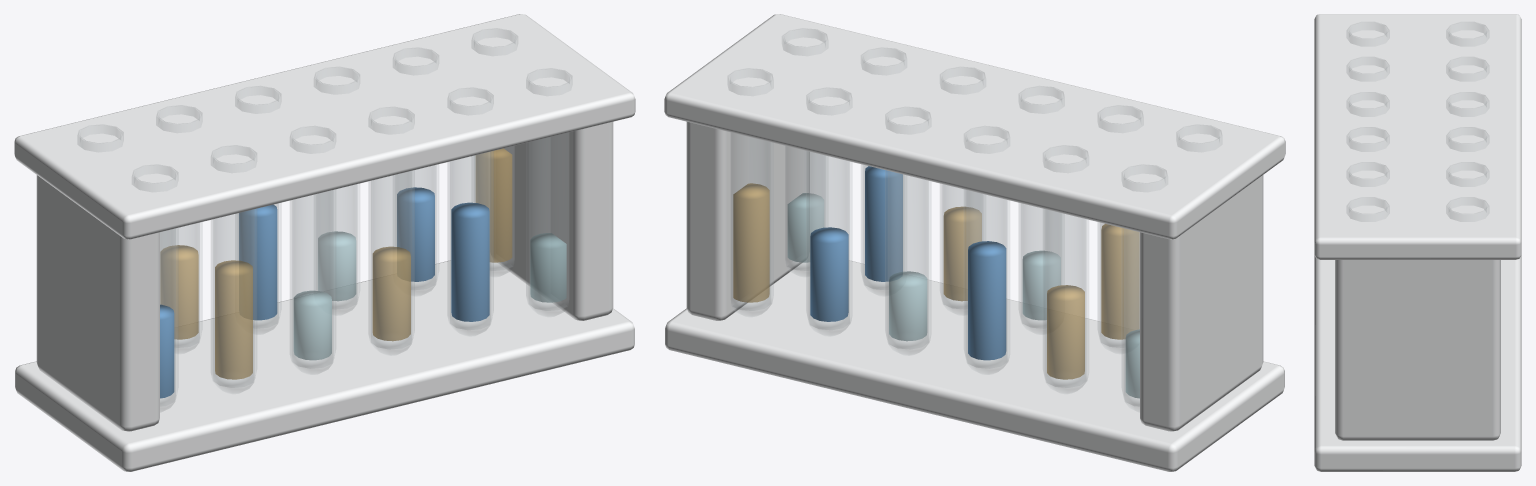
Rendered from test-tube-rack.glb.
3 renders of one model, left to right at view 1: azimuth 30°, elevation 25°; view 2: azimuth 150°, elevation 25°; view 3: azimuth 270°, elevation 25°, orthographic. The views are drawn at different scales.
Visible parts, largest first — view 1: test-tube-rack; view 2: test-tube-rack; view 3: test-tube-rack.
Part boxes in pixels (x1,y1,x2,y2): test-tube-rack: [14, 14, 635, 471]; test-tube-rack: [664, 14, 1285, 471]; test-tube-rack: [1314, 14, 1521, 471].
Bounding box in the file's own units: 0.26 × 0.129 × 0.1.
